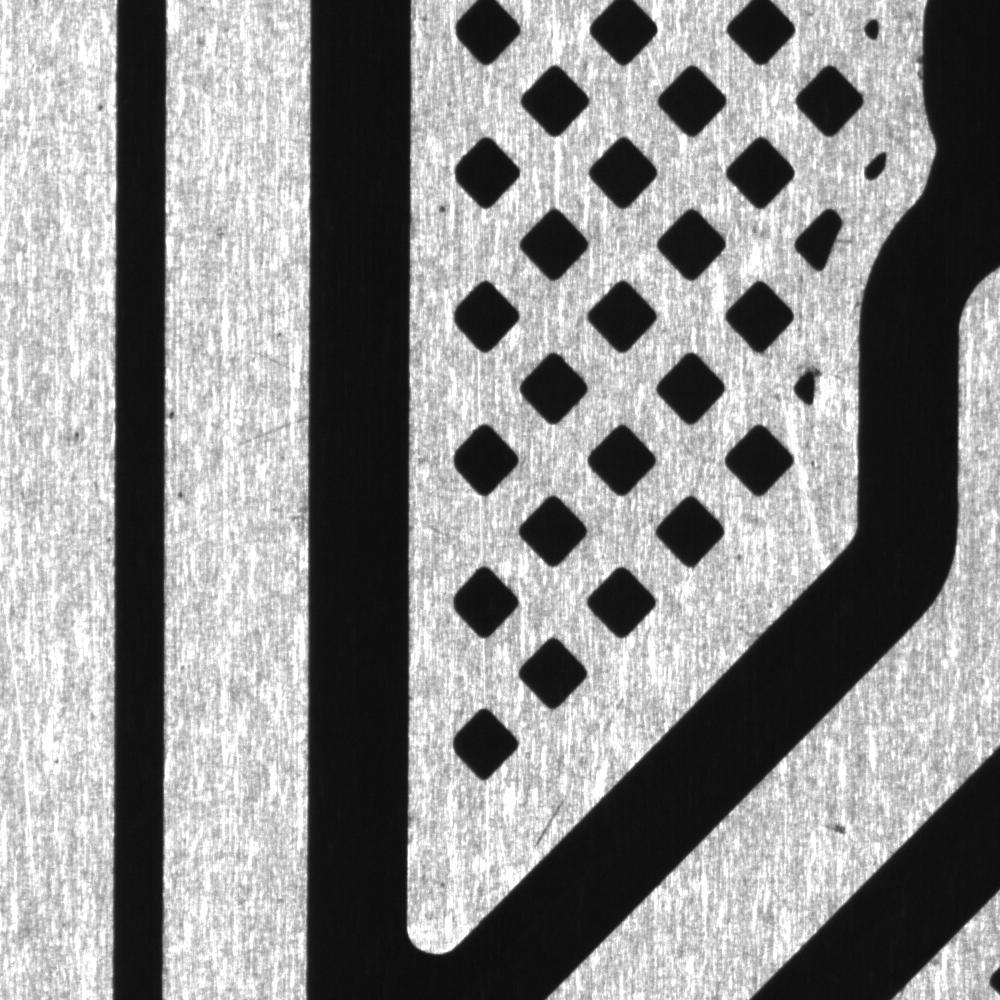Etching: (814, 797, 867, 851), (162, 393, 188, 434), (64, 418, 90, 453), (85, 95, 111, 125)
Pinhole: (424, 189, 459, 226)
Scar: (497, 776, 584, 852), (218, 401, 309, 469)
